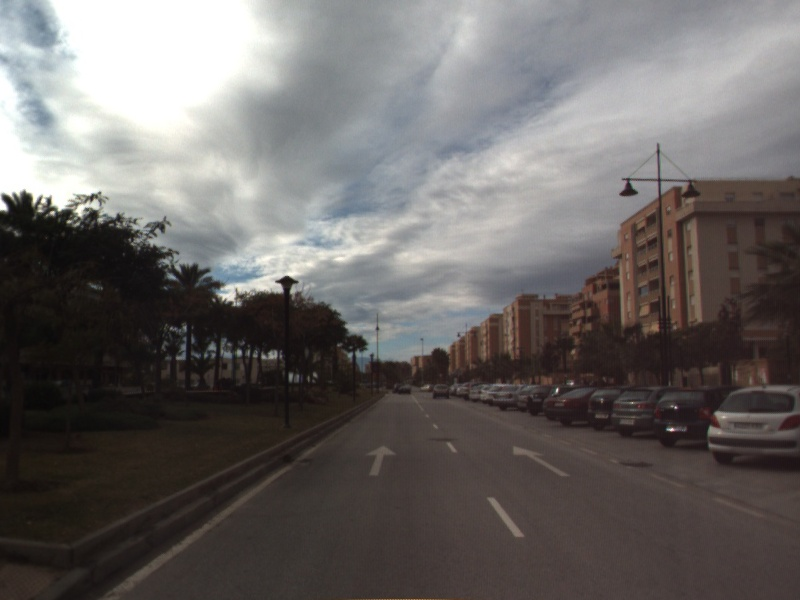STRAIGHT: (511, 444, 573, 478), (364, 443, 399, 477)
